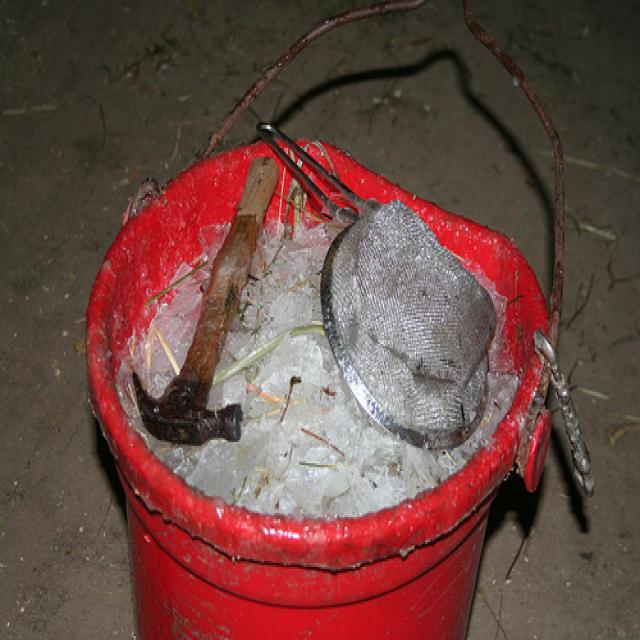hammer: (124, 144, 286, 450)
